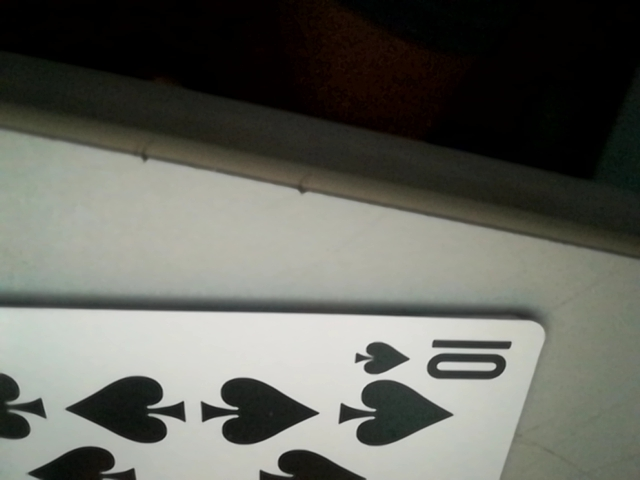ht 10: (350, 330, 519, 385)
